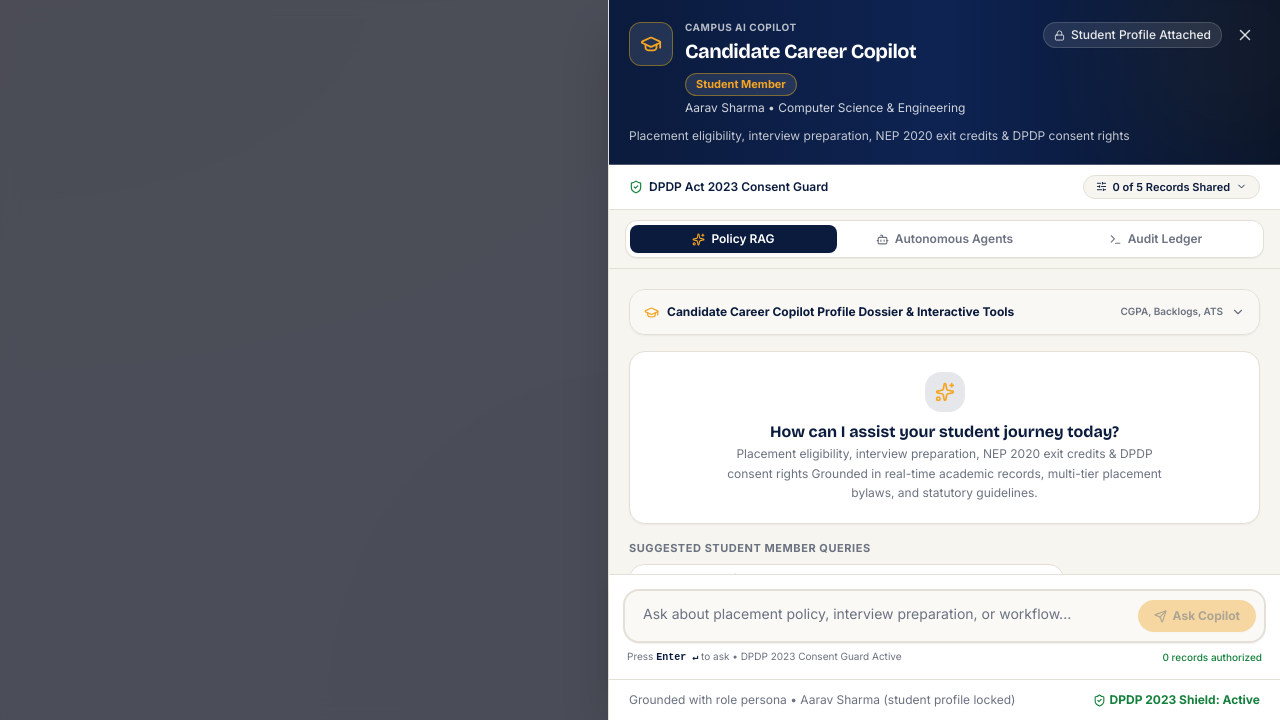
Scenario: Role-Based & User-Specific Copilot Architecture › executes role-scoped copilot query via /copilot/query/
The image size is (1280, 720).
Replace the text in the text box with placeholder "Ask about placement policy" with "Am I eligible for Google?" at (880, 616), box [631,597,1130,635]
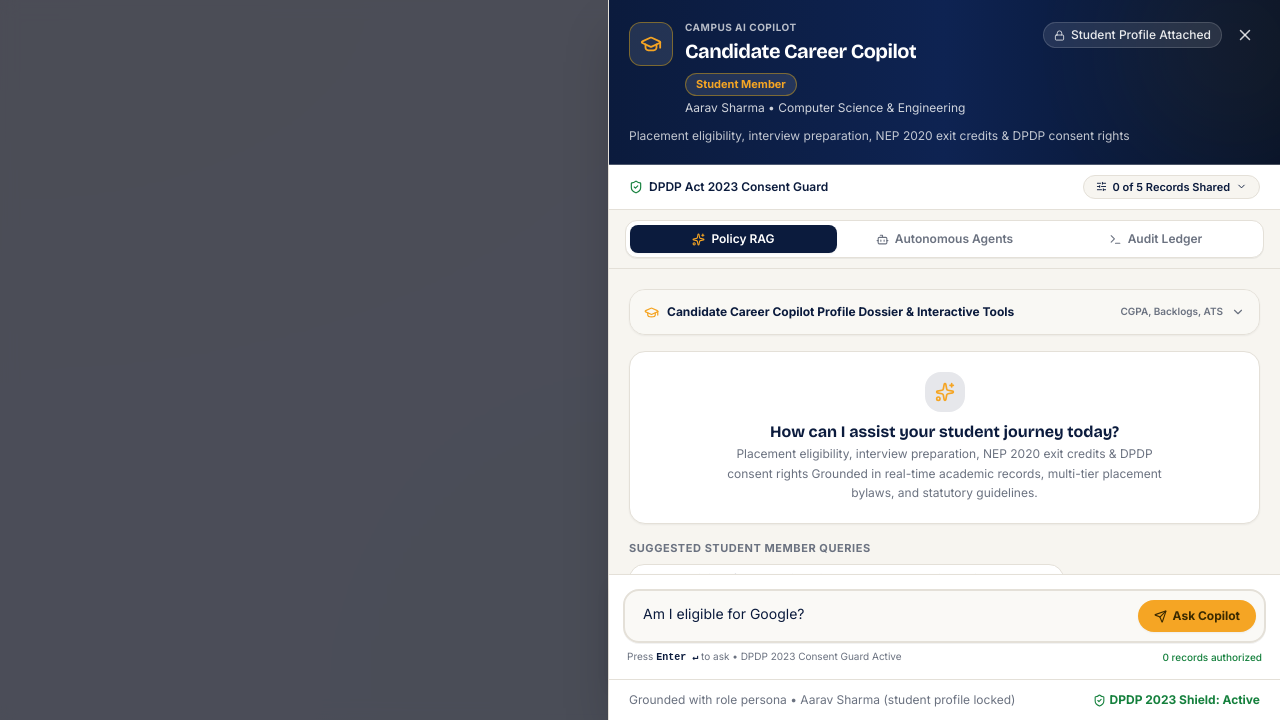
Click the button "Ask Copilot" at (1197, 616), box [1138,600,1256,632]
(page scrolled)
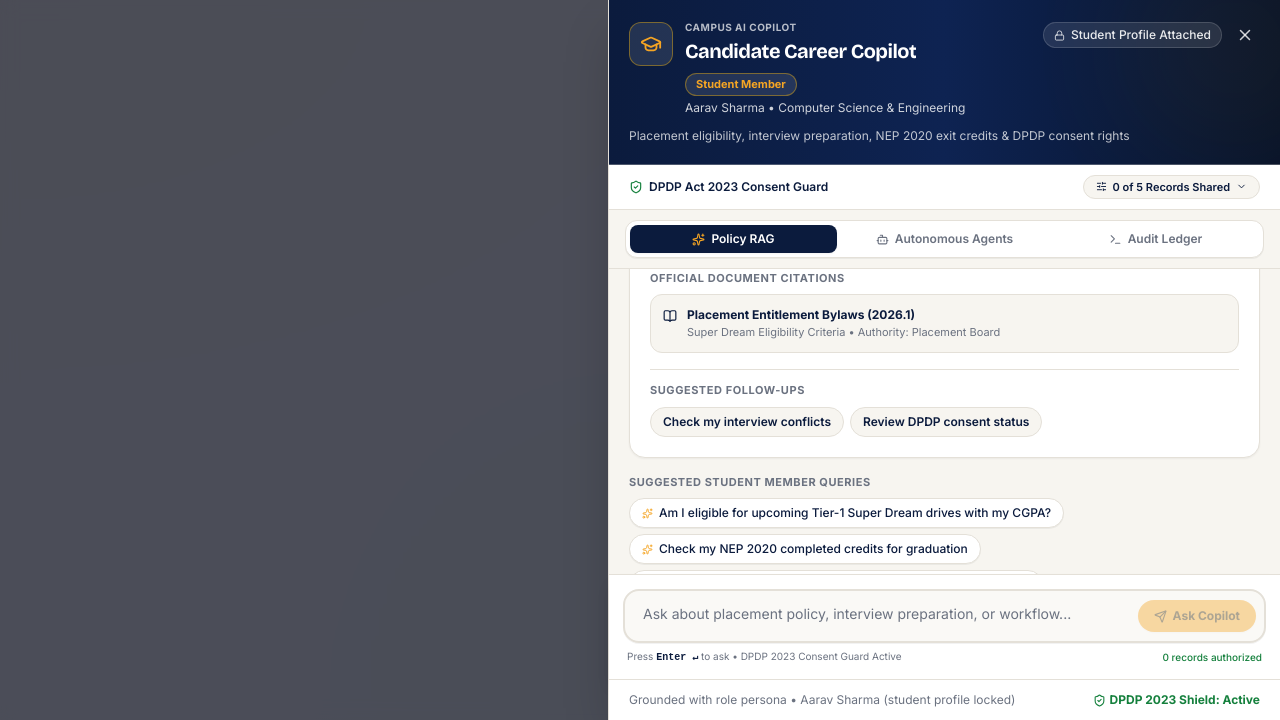
Expected: the text "Super Dream Eligibility Criteria" is shown, [687,325,845,339]
Expected: the button "Check my interview conflicts" is shown, [650,407,844,437]
